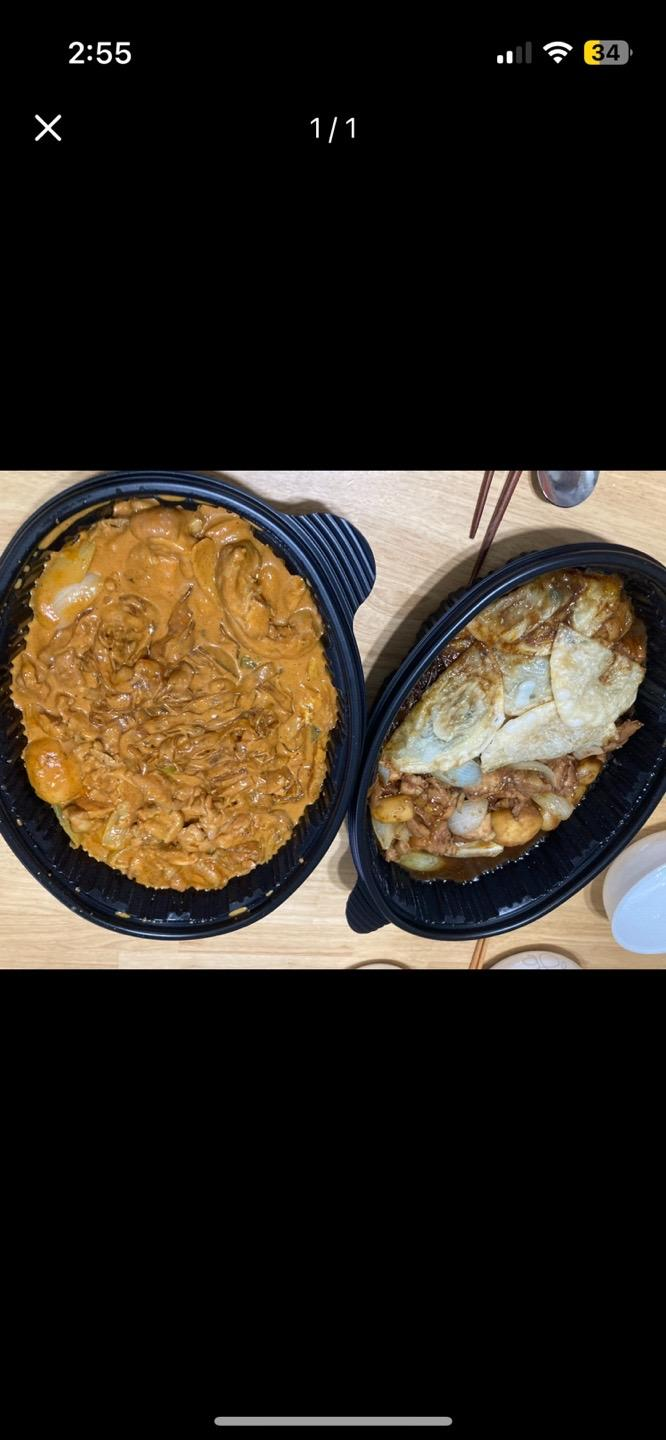Lunch Box: (0, 473, 375, 939), (347, 543, 665, 940)
